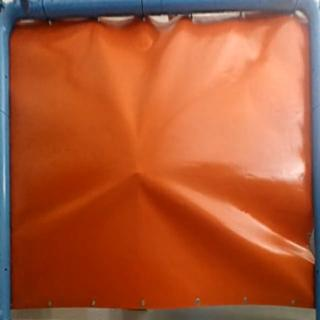Hit-hRxx: (131, 166, 148, 178)
